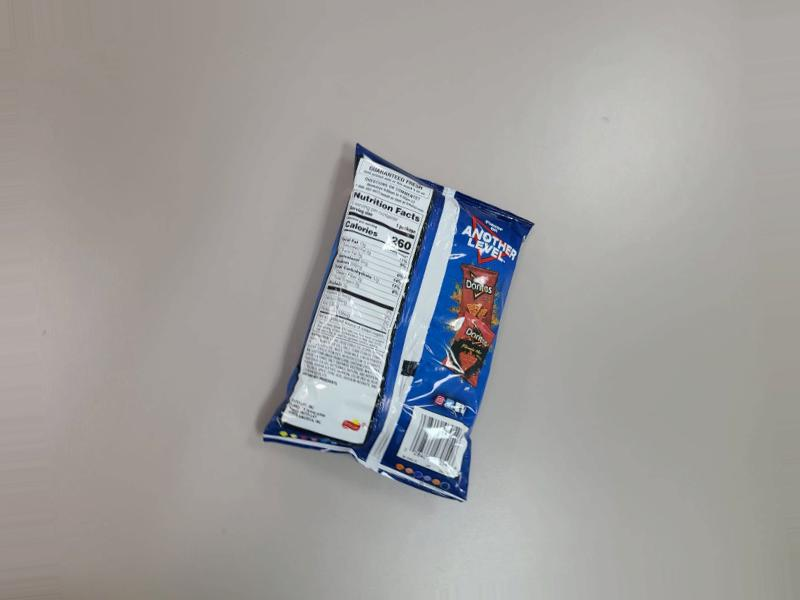doritos: (267, 148, 559, 535)
